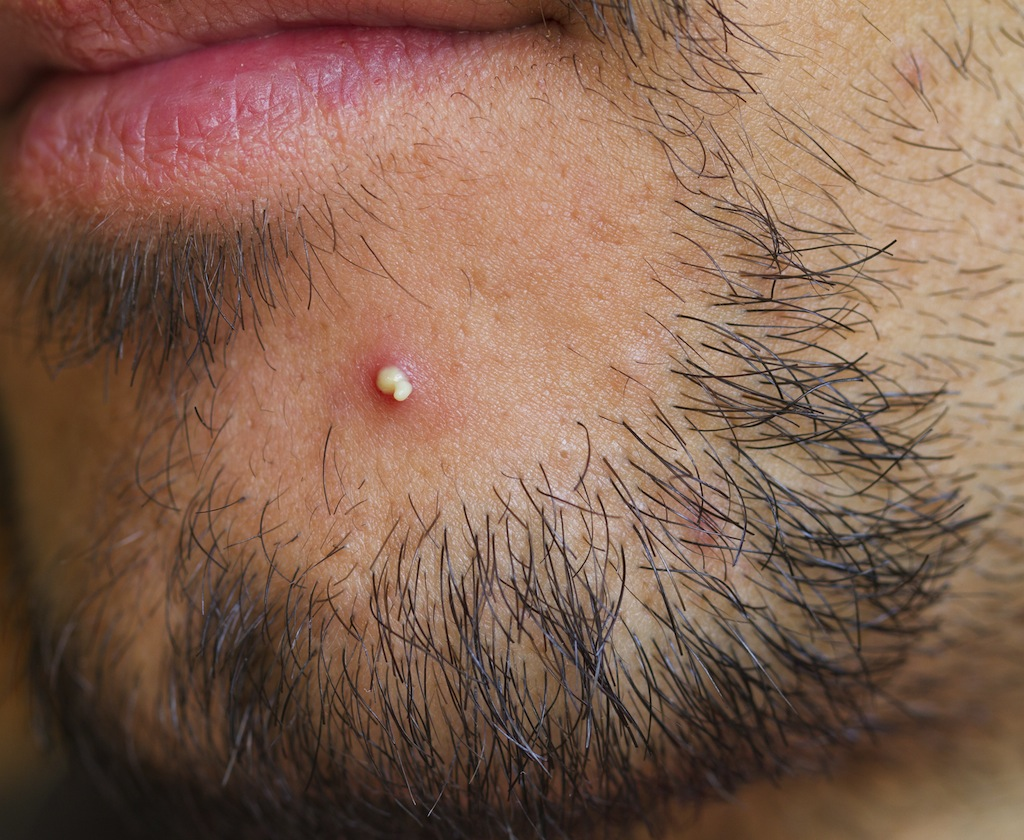pus: (367, 359, 417, 405)
